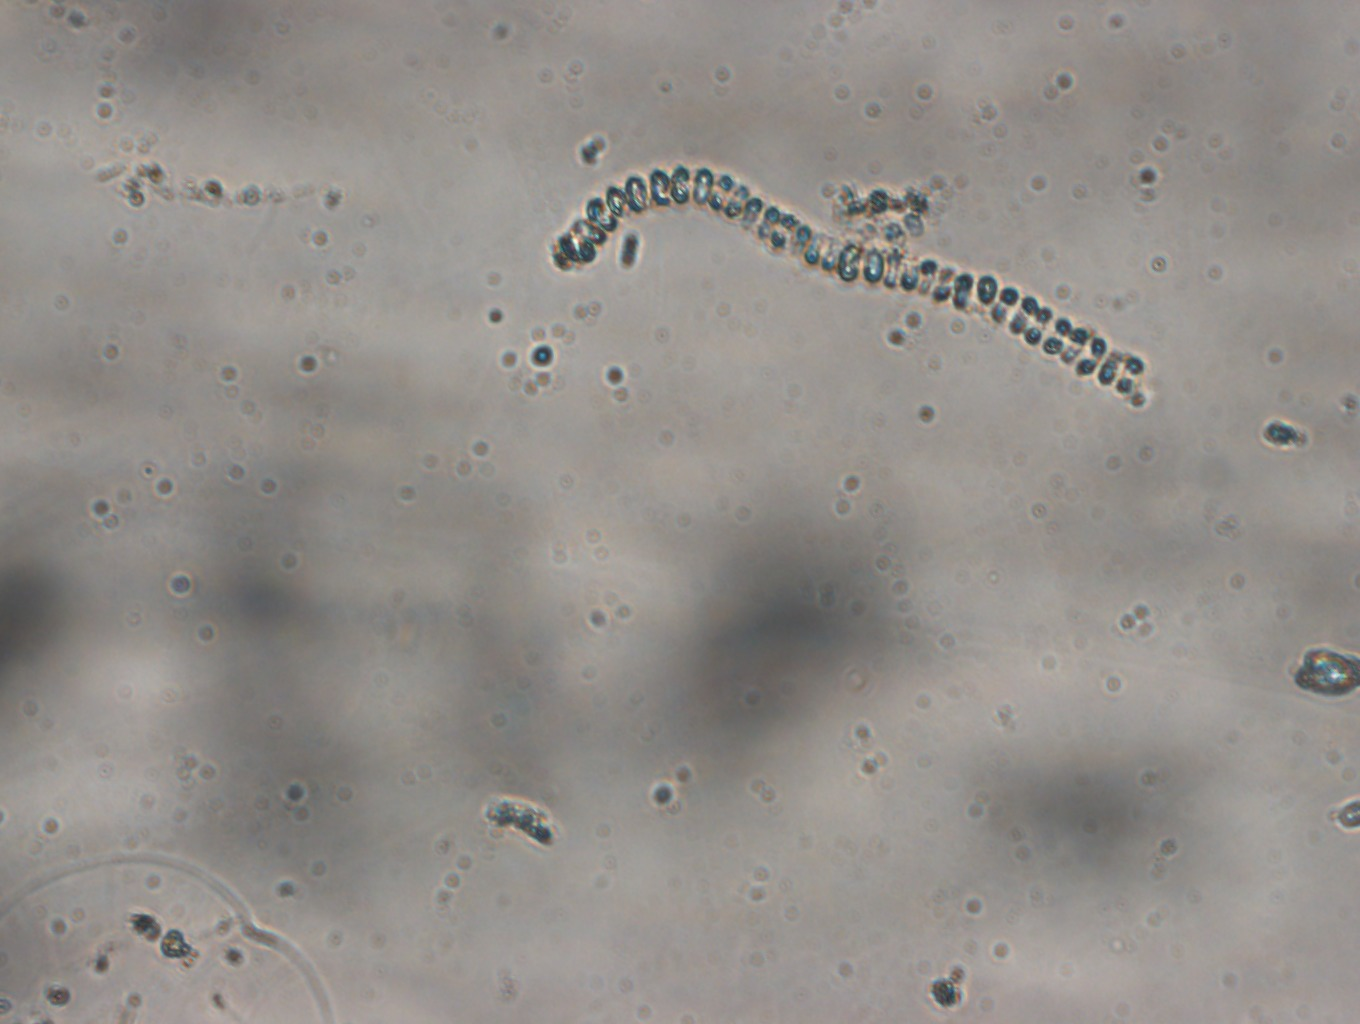skeletonema: (545, 156, 1153, 402)
